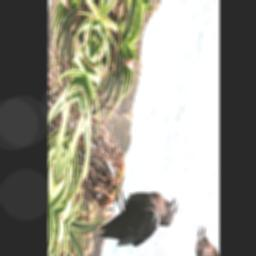Crow: (94, 140, 181, 256)
